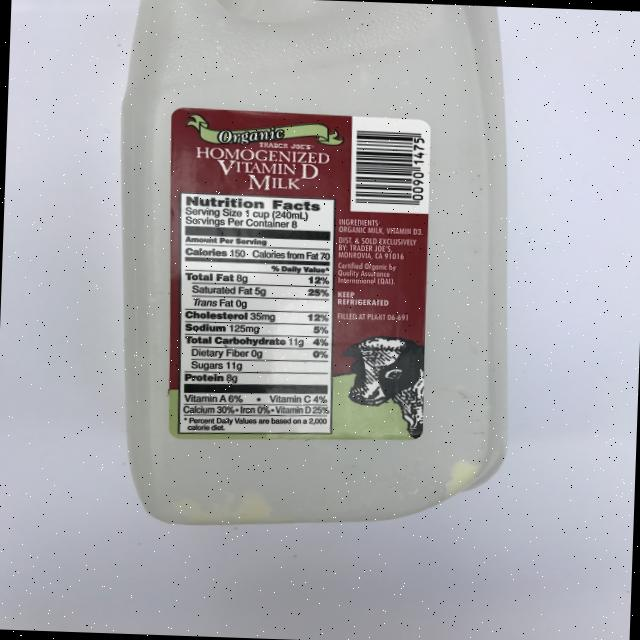plastic: (106, 0, 523, 536)
